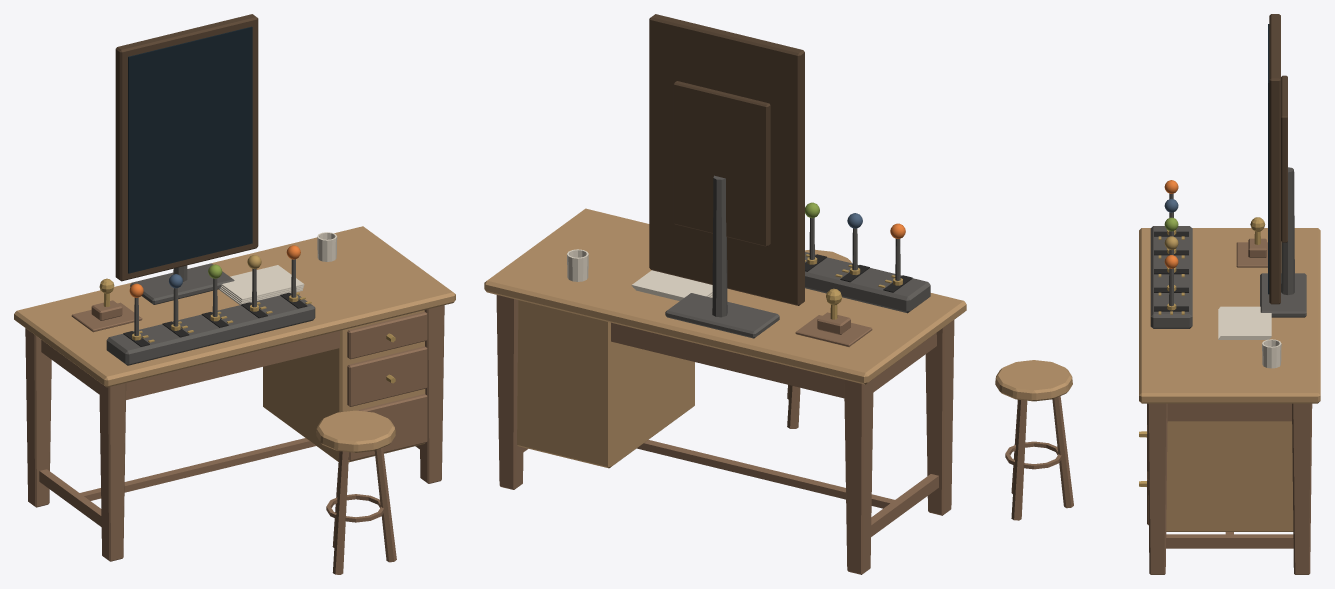
3 renders of one model, left to right at view 1: azimuth 30°, elevation 25°; view 2: azimuth 150°, elevation 25°; view 3: azimuth 270°, elevation 25°, orthographic. The views are drawn at different scales.
Parts seen in each view (by area): view 1: body, screen, stool, stamp; view 2: body, stamp, stool; view 3: body, stool, stamp, screen.
Boxes of the visible parts, x1=… form: body: x1=14, y1=14, x2=455, y2=561; screen: x1=128, y1=26, x2=252, y2=273; stool: x1=316, y1=410, x2=396, y2=574; stamp: x1=91, y1=278, x2=122, y2=320; body: x1=484, y1=14, x2=966, y2=574; stamp: x1=817, y1=288, x2=850, y2=334; stool: x1=787, y1=249, x2=851, y2=428; body: x1=1139, y1=14, x2=1320, y2=574; stool: x1=995, y1=360, x2=1073, y2=520; stamp: x1=1248, y1=217, x2=1266, y2=257; screen: x1=1268, y1=24, x2=1269, y2=294.
Size of the model in its own units: 1.7 by 2.08 by 1.4.
